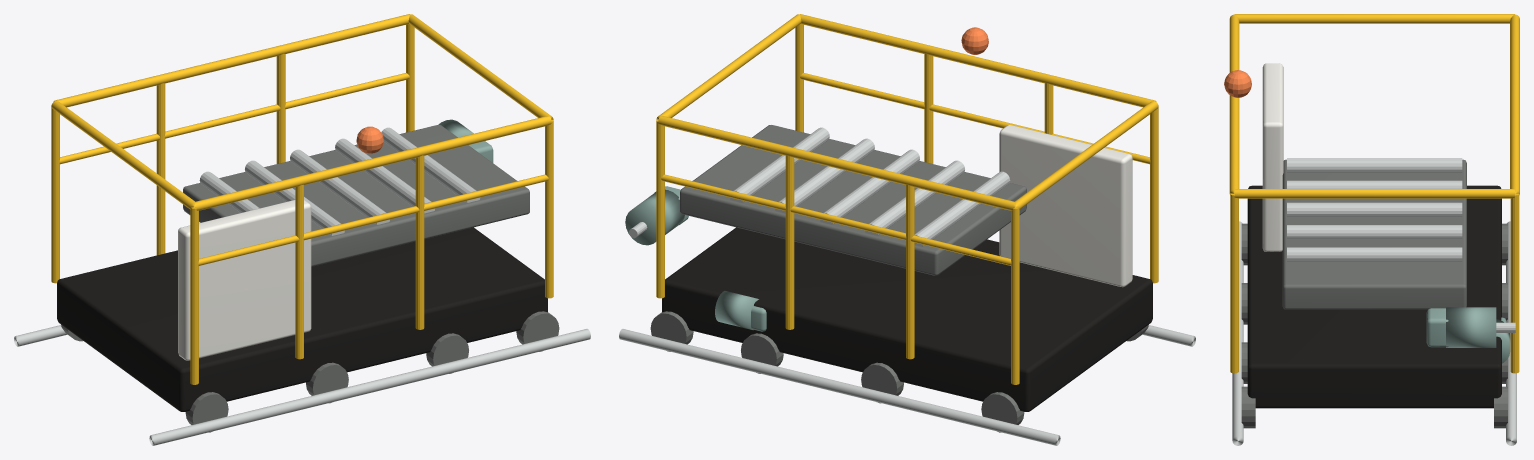
Rendered from photo_transfer_cart.glb.
3 renders of one model, left to right at view 1: azimuth 30°, elevation 25°; view 2: azimuth 150°, elevation 25°; view 3: azimuth 270°, elevation 25°, orthographic.
Visible parts, largest first — view 1: cart_black_base_frame, cart_roller_bed_frame, cart_light_front_panel, cart_track_reference_-0.8, cart_yellow_top_guard_-0.8, cart_yellow_top_guard_0.8, cart_yellow_mid_guard_-0.8, cart_yellow_mid_guard_0.8, cart_yellow_front_guard_top, cart_yellow_guard_post_0.3_-0.8, cart_yellow_rear_guard_top, cart_yellow_guard_post_-1.2_-0.8 (+17 smaller); view 2: cart_black_base_frame, cart_roller_bed_frame, cart_light_front_panel, cart_track_reference_0.8, cart_yellow_top_guard_0.8, cart_yellow_top_guard_-0.8, cart_yellow_mid_guard_0.8, cart_yellow_mid_guard_-0.8, cart_yellow_front_guard_top, cart_yellow_guard_post_0.3_0.8, cart_yellow_rear_guard_top, cart_side_drive_motor_motor_body (+18 smaller); view 3: cart_black_base_frame, cart_roller_bed_frame, cart_light_front_panel, cart_yellow_rear_guard_top, cart_yellow_front_guard_top, cart_live_roller_01, cart_live_roller_03, cart_live_roller_05, cart_live_roller_04, cart_side_drive_motor_motor_body, cart_yellow_top_guard_0.8, cart_yellow_guard_post_1.2_0.8 (+9 smaller).
Part boxes in pixels (<box>): cart_black_base_frame: <box>57,227,547,411</box>; cart_roller_bed_frame: <box>183,125,529,266</box>; cart_light_front_panel: <box>178,200,311,360</box>; cart_track_reference_-0.8: <box>149,329,590,445</box>; cart_yellow_top_guard_-0.8: <box>194,116,551,210</box>; cart_yellow_top_guard_0.8: <box>53,14,410,107</box>; cart_yellow_mid_guard_-0.8: <box>198,174,548,265</box>; cart_yellow_mid_guard_0.8: <box>59,73,409,164</box>; cart_yellow_front_guard_top: <box>51,101,194,209</box>; cart_yellow_guard_post_0.3_-0.8: <box>415,155,424,329</box>; cart_yellow_rear_guard_top: <box>408,14,553,119</box>; cart_yellow_guard_post_-1.2_-0.8: <box>190,207,198,384</box>; cart_black_base_frame: <box>662,227,1152,411</box>; cart_roller_bed_frame: <box>680,125,1026,275</box>; cart_light_front_panel: <box>999,125,1132,287</box>; cart_track_reference_0.8: <box>619,329,1060,445</box>; cart_yellow_top_guard_0.8: <box>658,116,1015,210</box>; cart_yellow_top_guard_-0.8: <box>799,14,1156,107</box>; cart_yellow_mid_guard_0.8: <box>661,174,1011,265</box>; cart_yellow_mid_guard_-0.8: <box>800,73,1150,164</box>; cart_yellow_front_guard_top: <box>1015,101,1158,209</box>; cart_yellow_guard_post_0.3_0.8: <box>785,155,794,329</box>; cart_yellow_rear_guard_top: <box>656,14,801,119</box>; cart_side_drive_motor_motor_body: <box>625,189,684,245</box>; cart_black_base_frame: <box>1247,185,1501,408</box>; cart_roller_bed_frame: <box>1282,159,1466,309</box>; cart_light_front_panel: <box>1262,63,1283,251</box>; cart_yellow_rear_guard_top: <box>1234,189,1514,198</box>; cart_yellow_front_guard_top: <box>1234,14,1514,23</box>; cart_live_roller_01: <box>1287,158,1462,172</box>; cart_live_roller_03: <box>1287,202,1462,216</box>; cart_live_roller_05: <box>1287,247,1462,261</box>; cart_live_roller_04: <box>1287,225,1462,238</box>; cart_side_drive_motor_motor_body: <box>1446,307,1496,347</box>; cart_yellow_top_guard_0.8: <box>1510,14,1519,194</box>; cart_yellow_guard_post_1.2_0.8: <box>1510,193,1519,373</box>.
Size of the model in its own units: 2.93 by 1.7 by 1.69.
